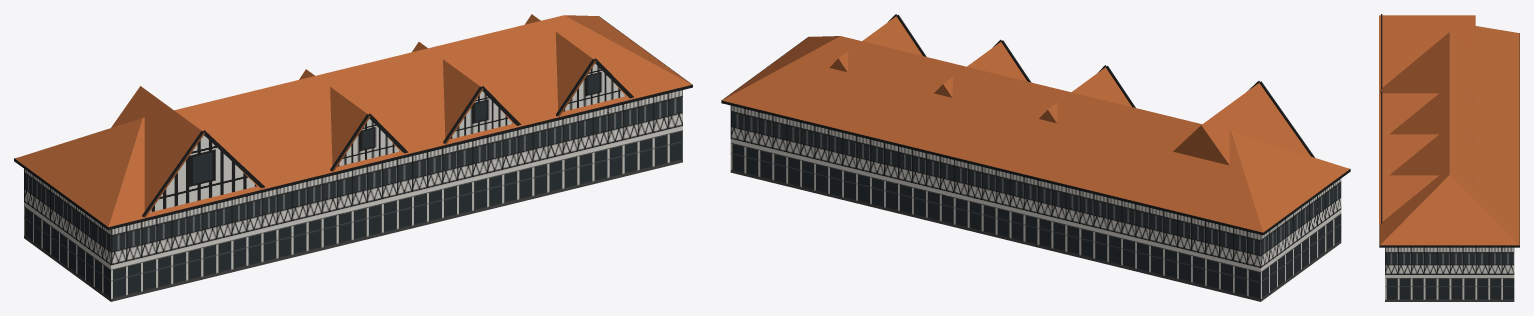
The model's file is royal-selangor-club.glb.
3 views of the same model, side by side, from view 1: azimuth 30°, elevation 25°; view 2: azimuth 150°, elevation 25°; view 3: azimuth 270°, elevation 25° (orthographic). The views are drawn at different scales.
Parts seen in each view (by area): view 1: rsc_roof, rsc_wall, rsc_gable, rsc_timber; view 2: rsc_roof, rsc_wall, rsc_timber; view 3: rsc_roof, rsc_wall, rsc_timber.
Part boxes in pixels (x1,y1,x2,y2): rsc_roof: (15,14,691,226); rsc_wall: (24,90,682,301); rsc_gable: (149,63,625,212); rsc_timber: (14,16,692,229); rsc_roof: (722,16,1349,232); rsc_wall: (730,105,1341,301); rsc_timber: (721,14,1350,235); rsc_roof: (1379,15,1519,245); rsc_wall: (1385,247,1514,301); rsc_timber: (1379,14,1519,247).
Size of the model in its own units: 77.7 by 19.15 by 21.75.
Materials: 4 (2 with a texture image).
